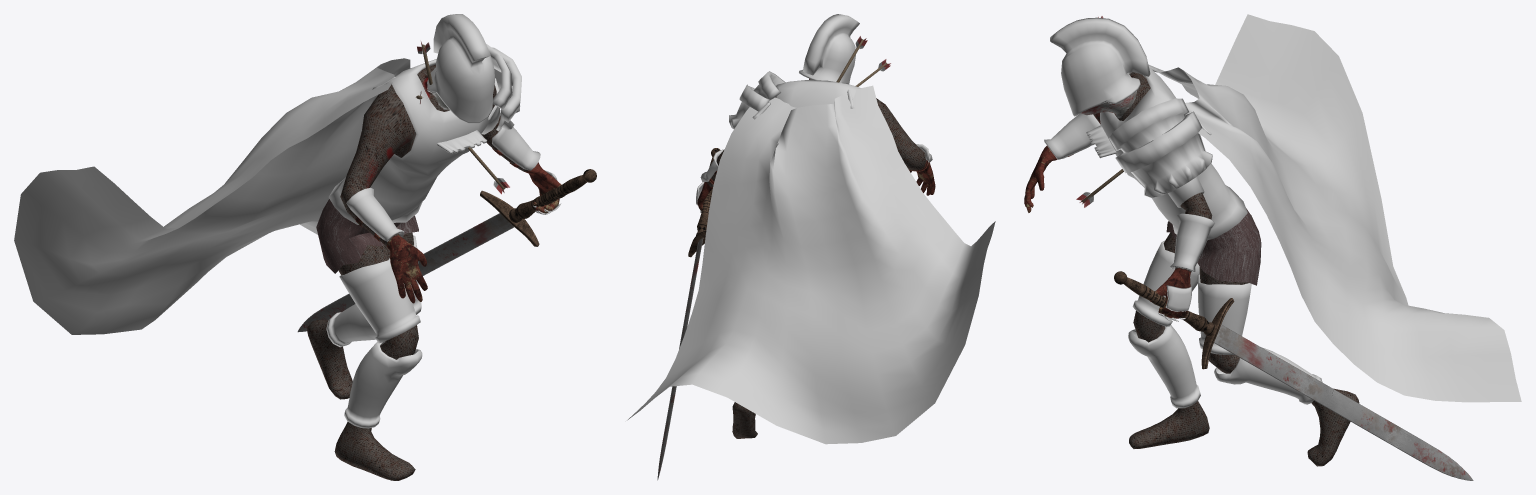
The picture shows the model from 3 angles, left to right: view 1: azimuth 30°, elevation 25°; view 2: azimuth 150°, elevation 25°; view 3: azimuth 270°, elevation 25°; orthographic projection. The views are drawn at different scales.
Visible parts, largest first — view 1: Human_2, Cape_1, Claymore HP_0; view 2: Cape_1, Human_2, Claymore HP_0; view 3: Cape_1, Human_2, Claymore HP_0.
Boxes of the visible parts, x1,y1,x2,y2 form: Human_2: (306,14,561,480); Cape_1: (14,58,410,334); Claymore HP_0: (297,169,596,332); Cape_1: (627,85,995,444); Human_2: (696,14,935,438); Claymore HP_0: (657,148,720,480); Cape_1: (1148,14,1521,402); Human_2: (1024,16,1359,466); Claymore HP_0: (1114,271,1473,480).
Size of the model in its own units: 11.76 by 11.35 by 11.48.
